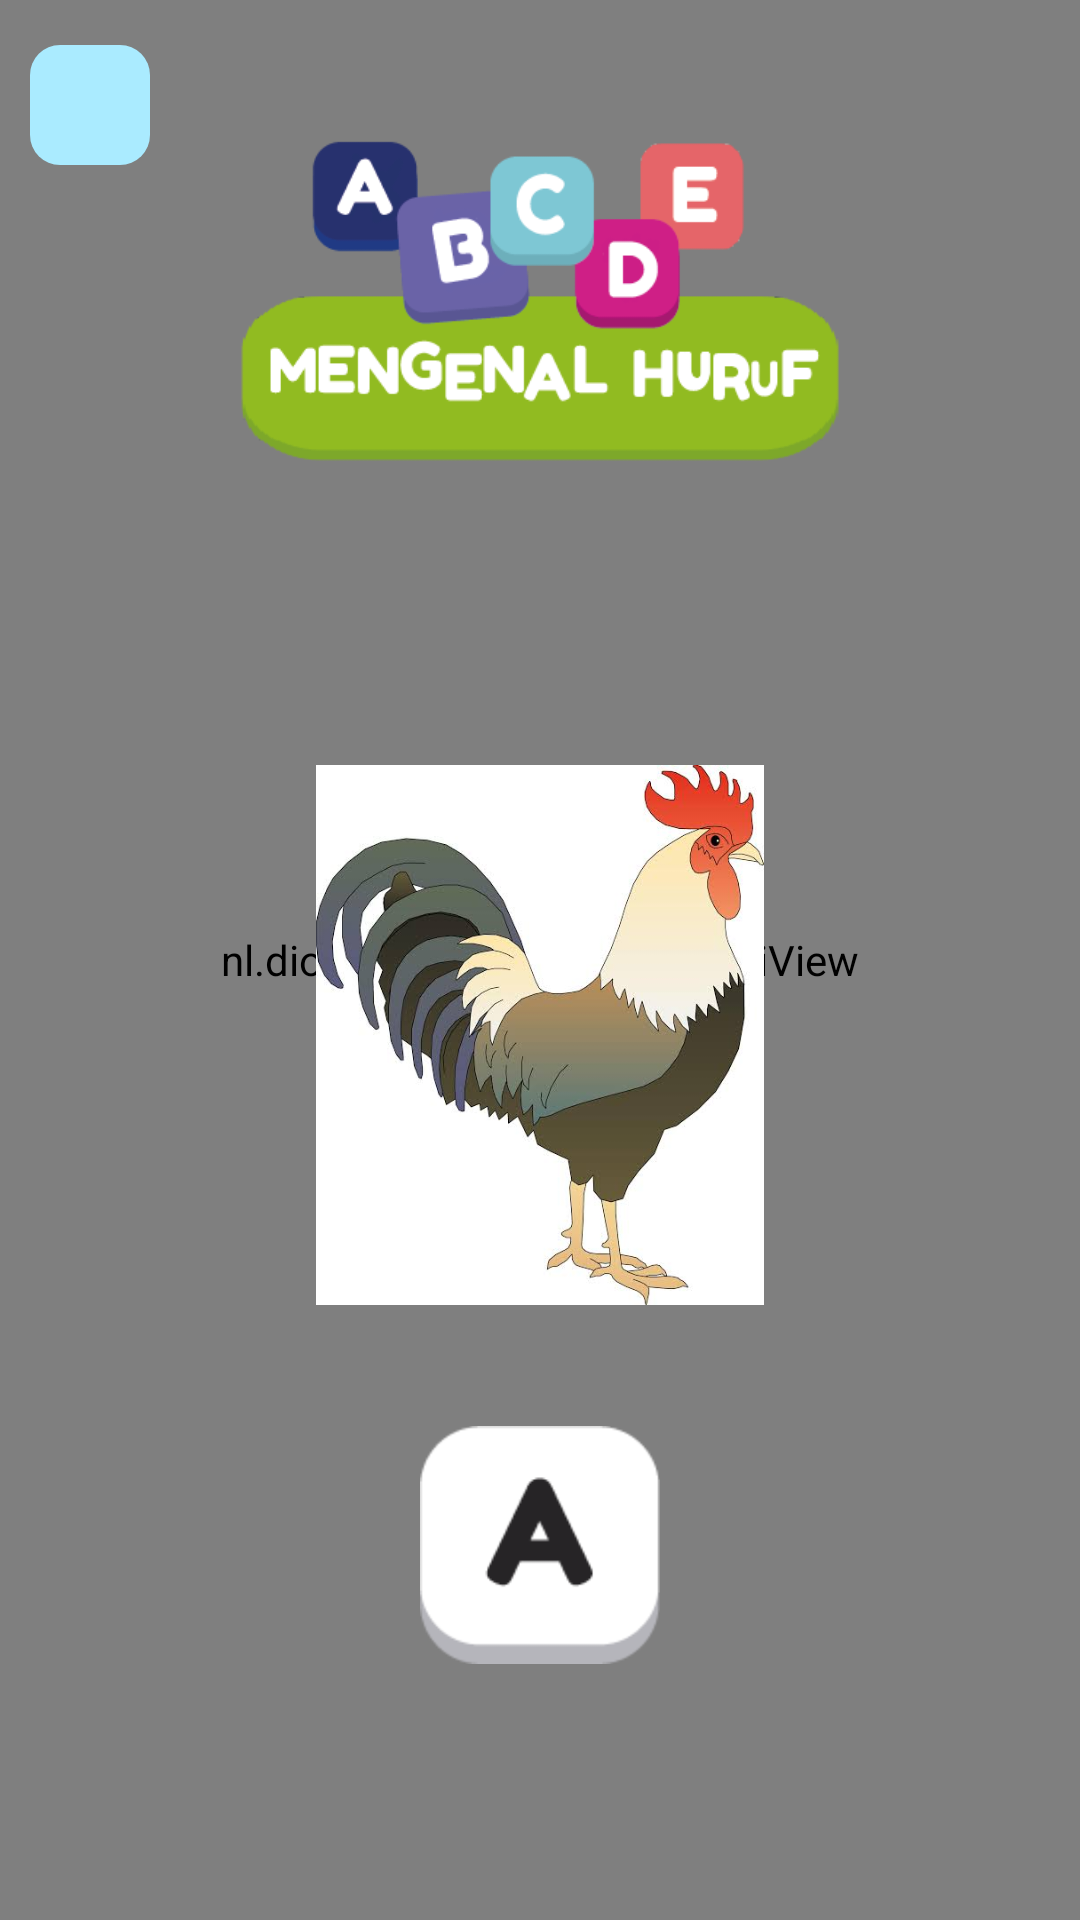

Icon click points for this 1080w x 1920h phone screenshot, format point (x, y):
letter: point (540, 1545)
